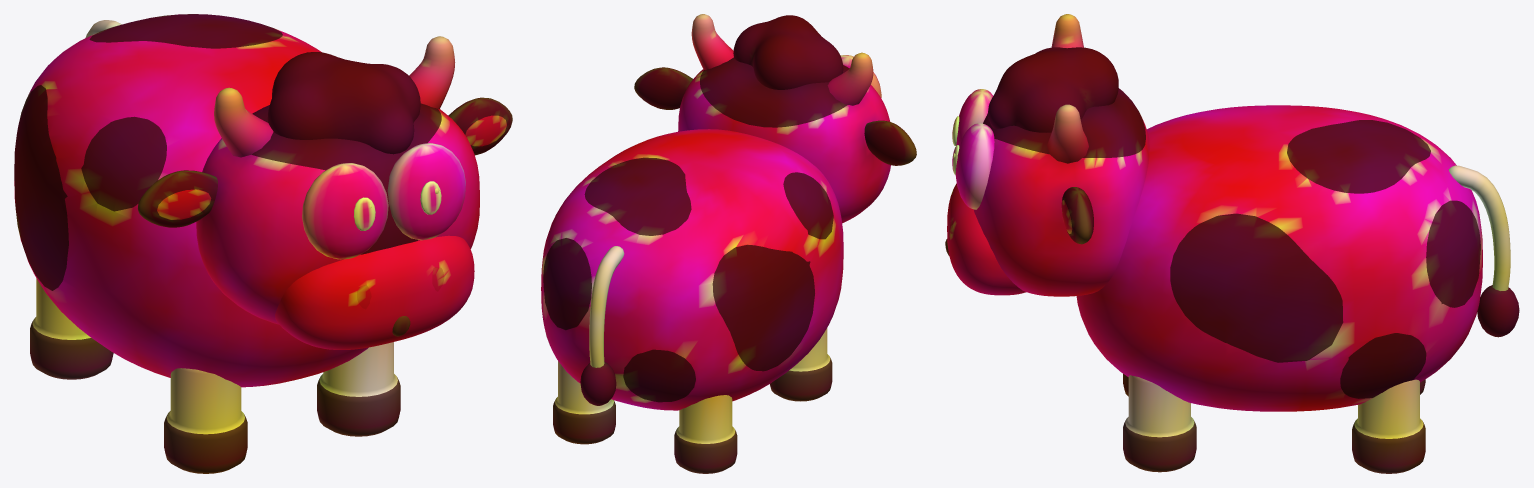
Rendered from Cow.fbx.
The picture shows the model from 3 angles, left to right: view 1: azimuth 30°, elevation 25°; view 2: azimuth 150°, elevation 25°; view 3: azimuth 270°, elevation 25°; orthographic projection. The views are drawn at different scales.
Visible parts, largest first — view 1: Body, Head, Muzzle, Tuft, Leg_FR, Leg_FL, Eye_R, Eye_L, Leg_BR, Ear_R, Horn_R, Ear_L (+3 smaller); view 2: Body, Head, Tuft, Leg_BR, Tail, Leg_BL, Leg_FR, Ear_L, Ear_R, Horn_R, Horn_L; view 3: Body, Head, Tuft, Leg_FL, Leg_BL, Tail, Muzzle, Eye_L, Horn_L, Ear_L, Eye_R, Horn_R.
Boxes of the visible parts, x1,y1,x2,y2 form: Body: (14, 14, 368, 387); Head: (196, 103, 479, 324); Muzzle: (275, 235, 474, 349); Tuft: (267, 52, 420, 154); Leg_FR: (164, 368, 247, 473); Leg_FL: (317, 342, 400, 436); Eye_R: (302, 163, 388, 259); Eye_L: (387, 143, 465, 240); Leg_BR: (30, 278, 113, 379); Ear_R: (138, 170, 217, 227); Horn_R: (214, 87, 273, 157); Ear_L: (448, 97, 512, 155); Body: (541, 129, 843, 410); Head: (678, 57, 890, 222); Tuft: (733, 15, 843, 89); Leg_BR: (674, 395, 737, 473); Tail: (580, 246, 624, 405); Leg_BL: (553, 361, 615, 444); Leg_FR: (770, 328, 832, 401); Ear_L: (634, 67, 692, 109); Ear_R: (864, 120, 916, 165); Horn_R: (827, 52, 873, 105); Horn_L: (691, 14, 733, 69); Body: (1076, 105, 1482, 411); Head: (973, 88, 1149, 296); Tuft: (988, 47, 1118, 132); Leg_FL: (1123, 375, 1196, 472); Leg_BL: (1352, 379, 1425, 473); Tail: (1448, 165, 1519, 337); Muzzle: (947, 183, 1026, 295); Eye_L: (955, 123, 994, 209); Horn_L: (1047, 104, 1088, 163); Ear_L: (1061, 187, 1093, 244); Eye_R: (956, 89, 992, 145); Horn_R: (1051, 14, 1083, 48).
Bounding box in the file's own units: 0.9282 × 1 × 1.4.
